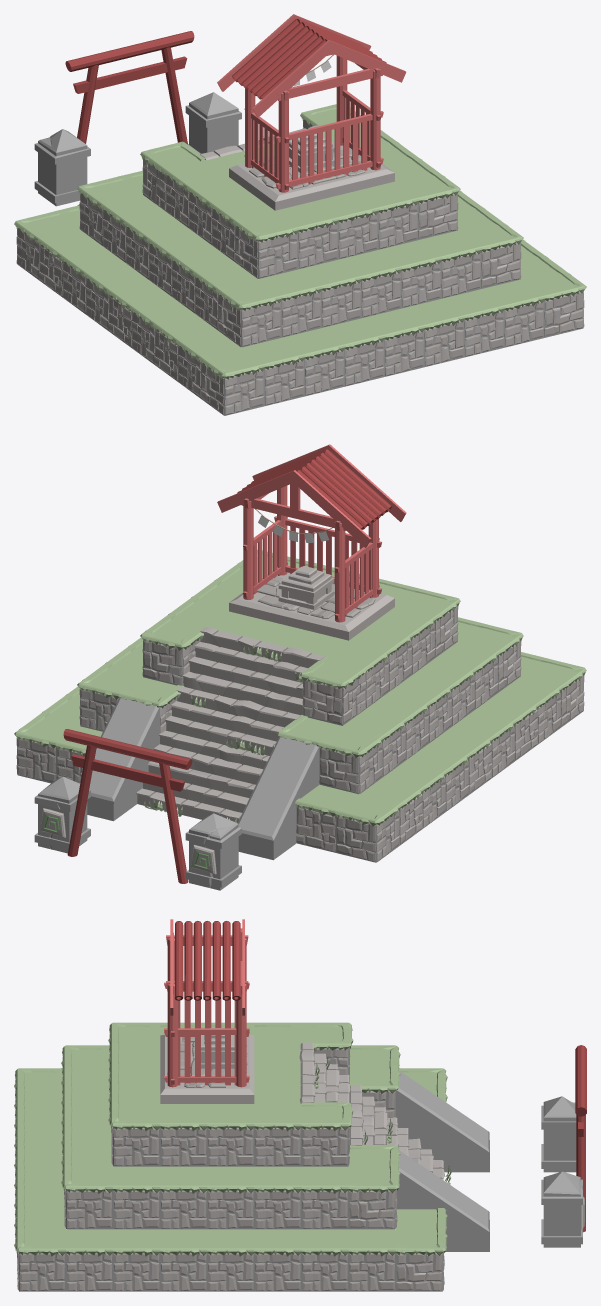
File: ER_Asset_ZoneShrine.fbx
3 views of the same model, one above another, from view 1: azimuth 30°, elevation 25°; view 2: azimuth 150°, elevation 25°; view 3: azimuth 270°, elevation 25° (orthographic). The views are drawn at different scales.
Visible parts, largest first — view 1: directionalLight3; view 2: directionalLight3; view 3: directionalLight3.
Part boxes in pixels (x1=…): directionalLight3: x1=14, y1=14, x2=586, y2=415; directionalLight3: x1=14, y1=444, x2=586, y2=890; directionalLight3: x1=14, y1=919, x2=586, y2=1291.
Size of the model in its own units: 9.21 by 6.66 by 12.16.
